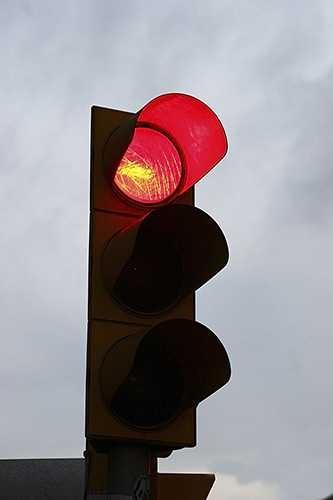red: (95, 97, 201, 441), (102, 104, 202, 215)
